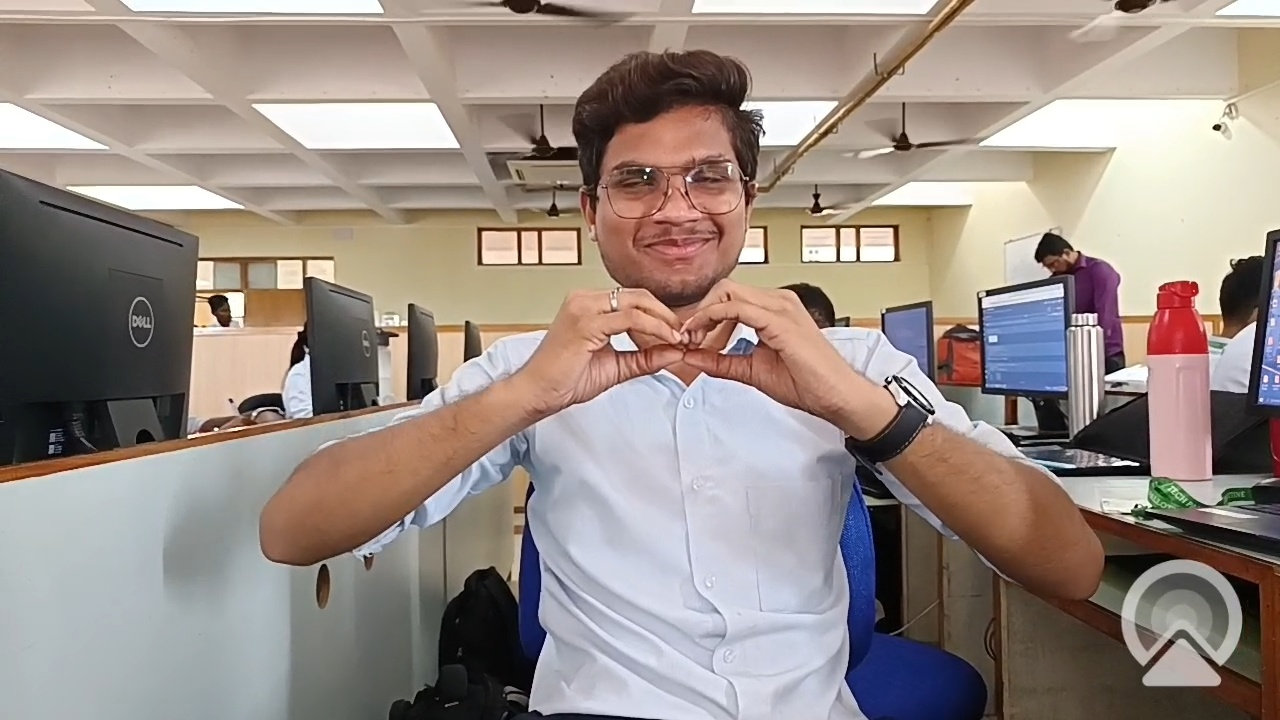B: (502, 269, 881, 448)
